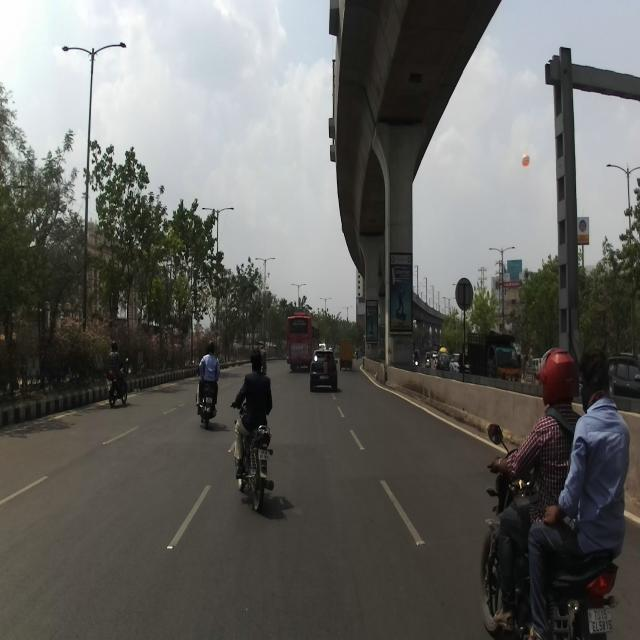motorcycle_Hero: (229, 402, 274, 512)
motorcycle_HeroHonda: (195, 363, 220, 429)
motorcycle_Honda: (480, 422, 619, 639)
